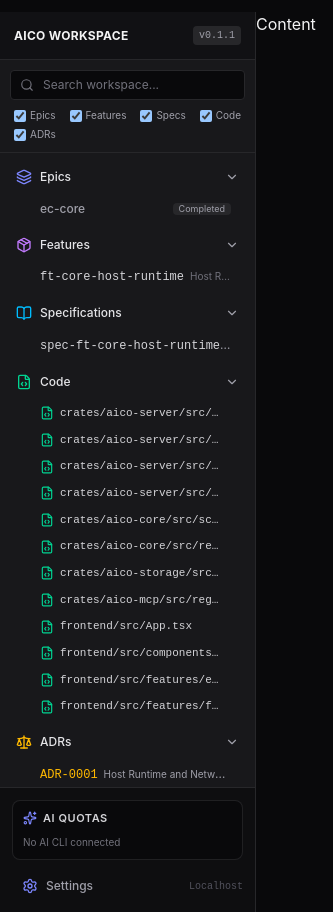
Scenario: ShellLayoutSearch: Sidebar Tree Fuzzy Filtering & Section Auto-Expansion › honors active scope checkboxes when filtering search results
In the field with test id "sidebar-search-input": (128, 85) [10,70,245,100], type "host"
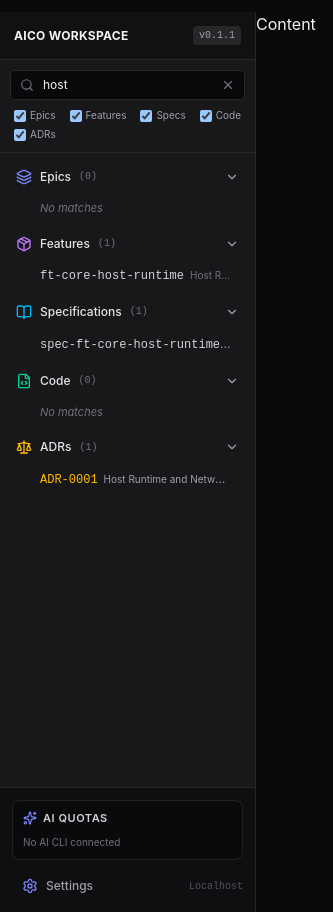
Expected: the element with test id "nav-feature-ft-core-host-runtime" is shown, [40,269,255,283]
Note: Uncheck "Features" scope checkbox
Click the checkbox labelled "Features": (76, 116) [70,110,82,122]
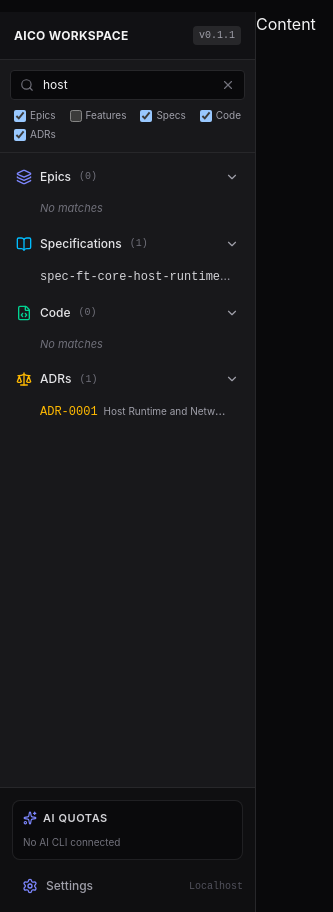
Expected: the element with test id "nav-feature-ft-core-host-runtime" is gone
